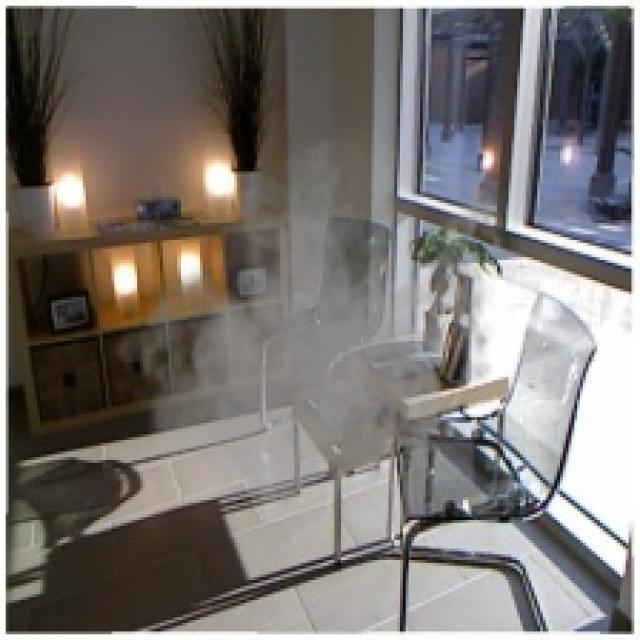smoke: (112, 114, 517, 537)
